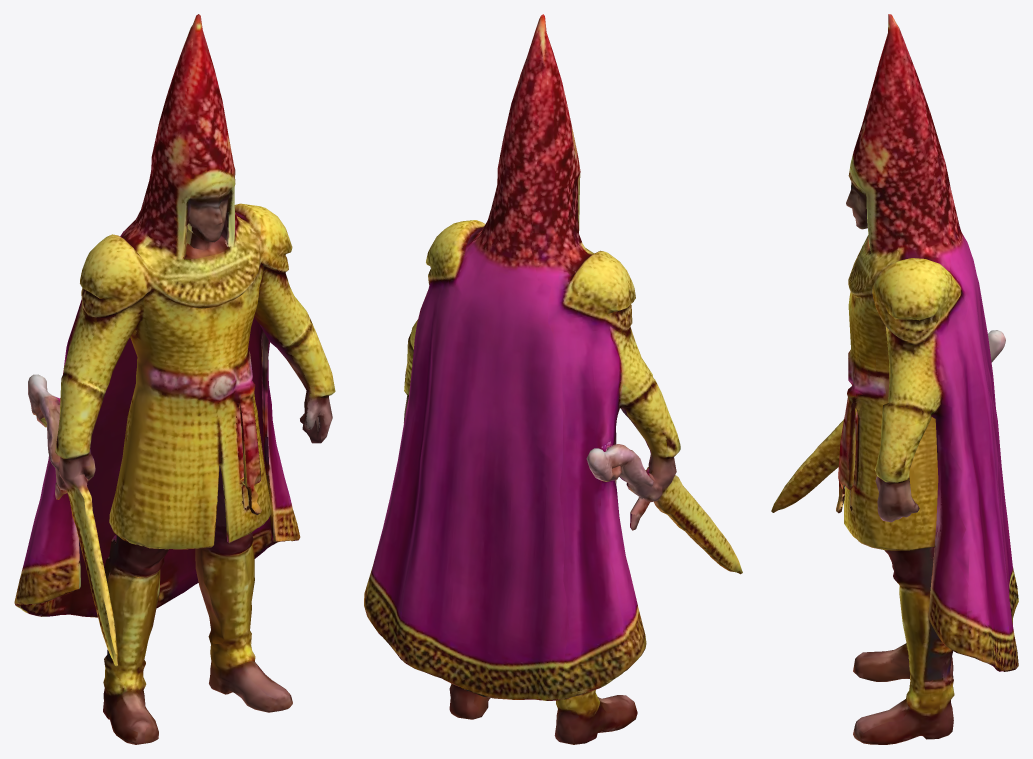
The model's file is golden-king.glb.
3 views of the same model, side by side, from view 1: azimuth 30°, elevation 25°; view 2: azimuth 150°, elevation 25°; view 3: azimuth 270°, elevation 25° (orthographic).
Visible parts, largest first — view 1: golden-king.hy.raw; view 2: golden-king.hy.raw; view 3: golden-king.hy.raw.
Part boxes in pixels (left/top/right/bottom): golden-king.hy.raw: left=14, top=14, right=335, bottom=744; golden-king.hy.raw: left=364, top=14, right=742, bottom=744; golden-king.hy.raw: left=771, top=14, right=1018, bottom=744.
Size of the model in its own units: 0.8762 by 2.1 by 0.6804.
Materials: 1 (1 with a texture image).
